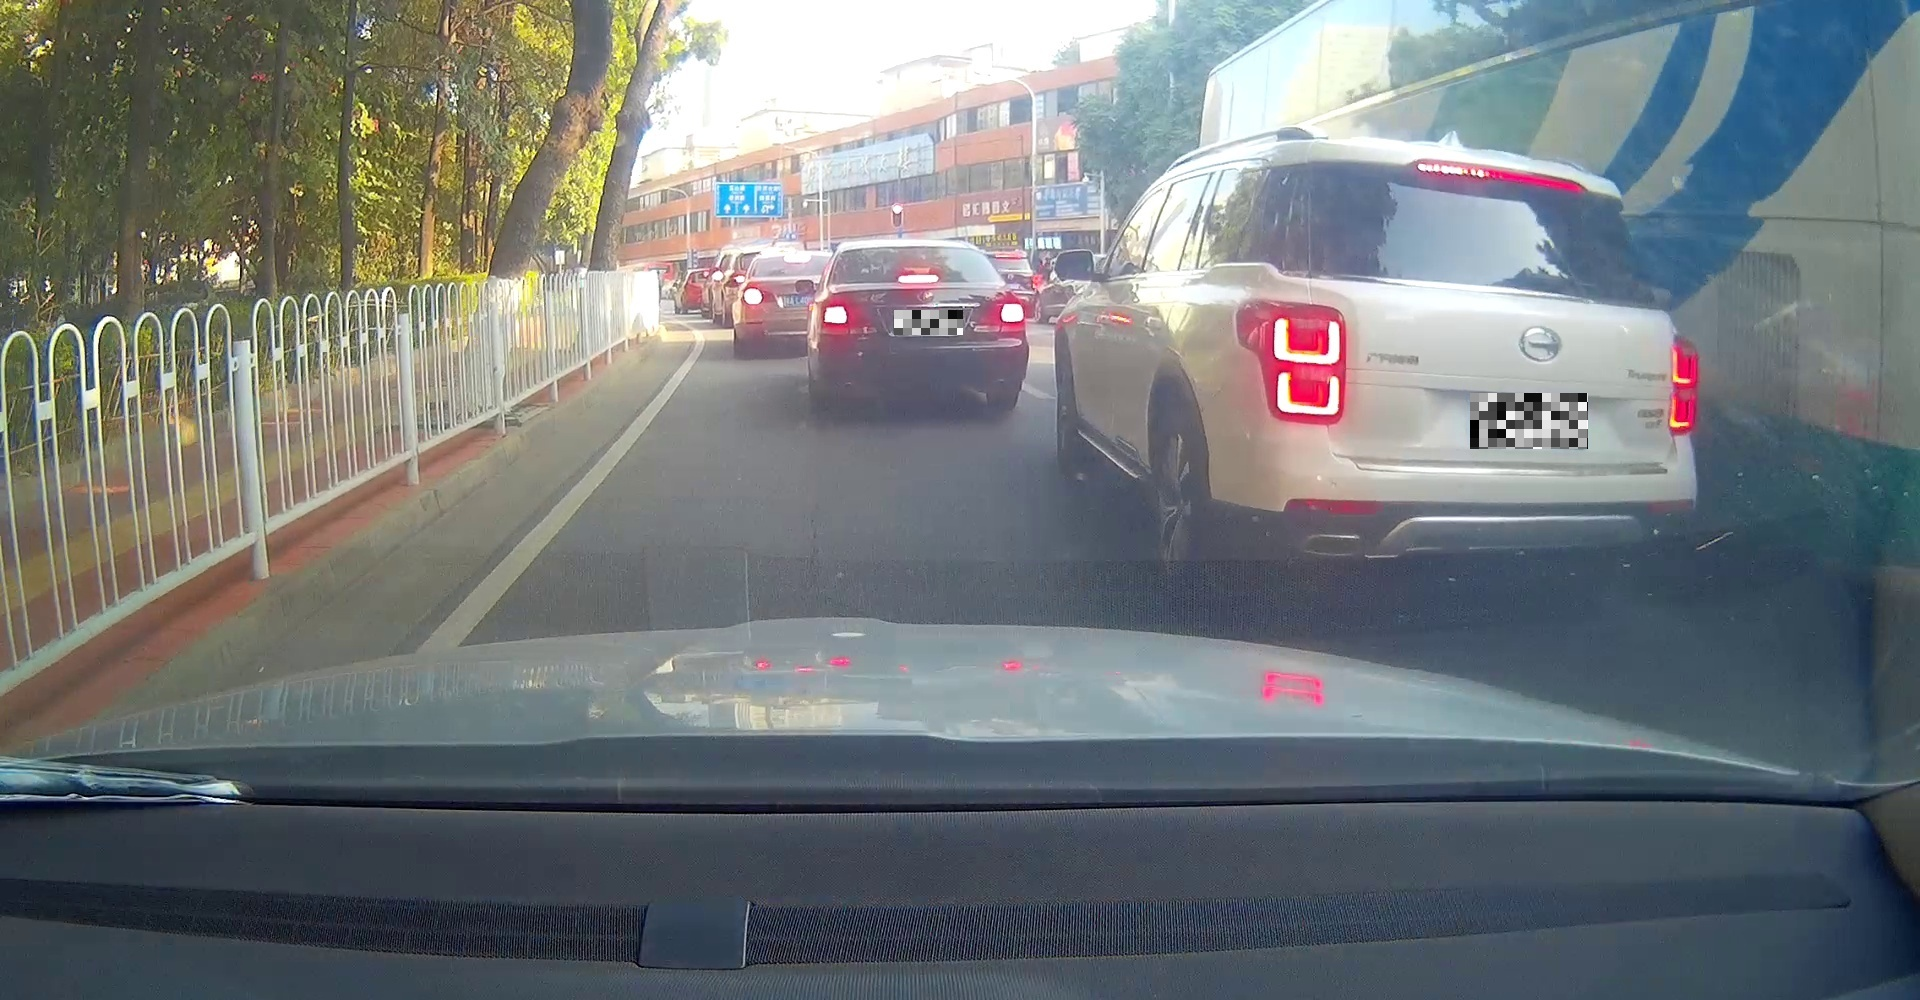L_light: (1233, 298, 1346, 425), (822, 301, 852, 327)
R_light: (1669, 335, 1695, 434), (997, 299, 1025, 326)
T_light: (1415, 157, 1586, 194), (897, 274, 940, 284)
day-brake: (1225, 137, 1699, 582), (817, 240, 1030, 409)
plate_1: (894, 310, 963, 335)
plate_2: (1470, 393, 1589, 449)
